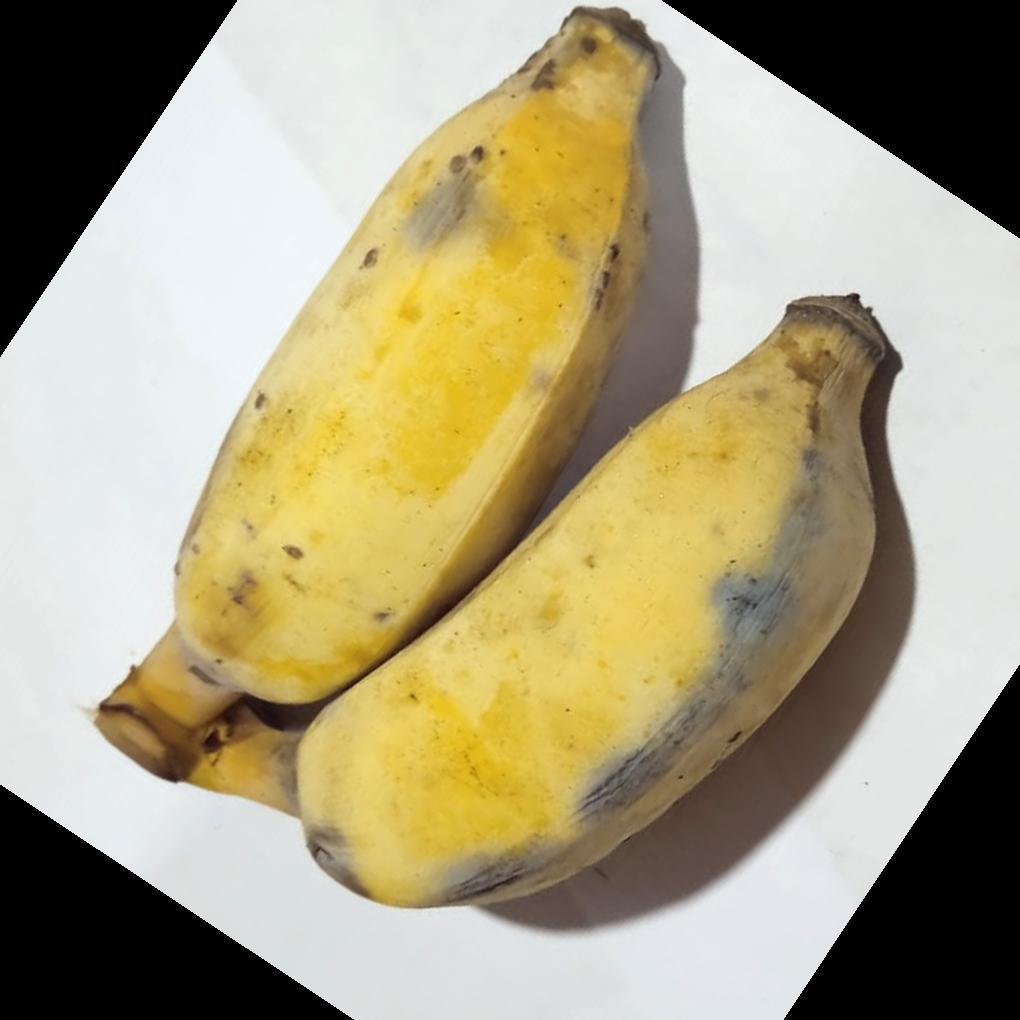Banana Ripe: (132, 10, 892, 957), (129, 33, 714, 811), (259, 273, 930, 913)
